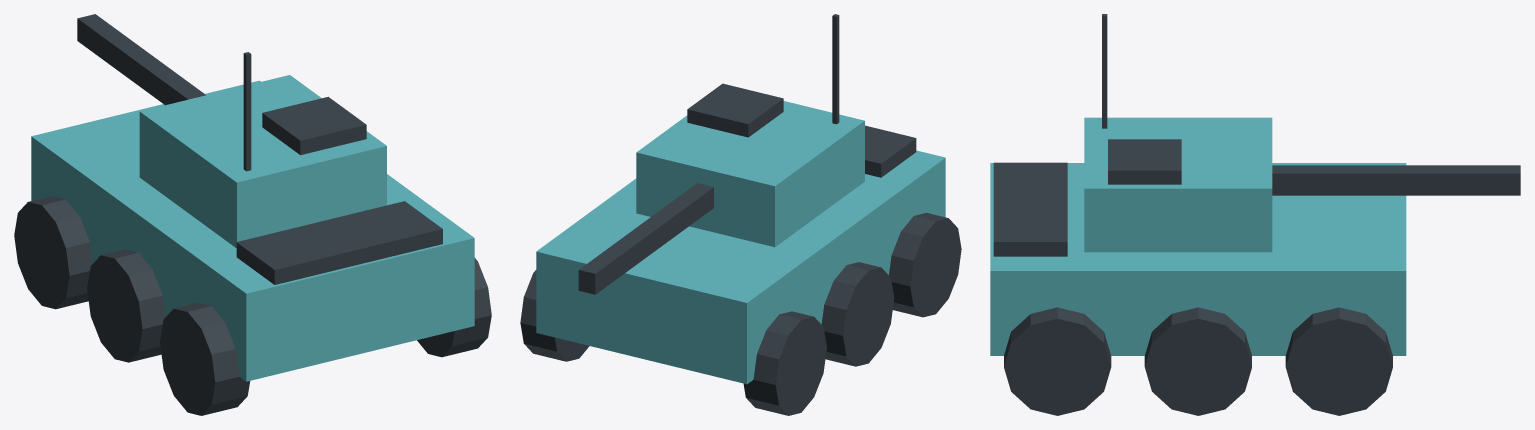
The model's file is Kestrel_LOD0.fbx.
The picture shows the model from 3 angles, left to right: view 1: azimuth 30°, elevation 25°; view 2: azimuth 150°, elevation 25°; view 3: azimuth 270°, elevation 25°; orthographic projection. The views are drawn at different scales.
Parts seen in each view (by area): view 1: Hull, Turret, EngineDeck, Wheel, Wheel.002, Wheel.001, Barrel, Hatch, Wheel.003, Antenna; view 2: Hull, Turret, Wheel.002, Wheel.001, Wheel, Barrel, Hatch, Wheel.005, EngineDeck, Antenna; view 3: Hull, Turret, Wheel.003, Wheel.005, Wheel.004, Barrel, EngineDeck, Hatch, Antenna.
Part boxes in pixels (x1,y1,x2,y2): Hull: (31,80,474,381); Turret: (139,75,386,247); EngineDeck: (236,201,442,284); Wheel: (160,302,250,415); Wheel.002: (14,196,92,309); Wheel.001: (87,249,165,362); Barrel: (77,14,205,105); Hatch: (262,96,366,155); Wheel.003: (417,258,491,357); Antenna: (243,52,251,171); Hull: (536,150,945,384); Turret: (636,101,864,247); Wheel.002: (743,311,826,415); Wheel.001: (821,262,894,366); Wheel: (889,213,961,317); Barrel: (578,183,713,294); Hatch: (687,83,783,137); Wheel.005: (520,270,589,361); EngineDeck: (865,125,916,177); Antenna: (832,14,839,124); Hull: (990,163,1406,355); Turret: (1084,117,1272,252); Wheel.003: (1004,307,1111,415); Wheel.005: (1285,307,1392,415); Wheel.004: (1144,307,1251,415); Barrel: (1272,165,1520,195); EngineDeck: (993,162,1067,256); Hatch: (1108,139,1181,184); Antenna: (1102,14,1107,128).
Size of the model in its own units: 230 by 255 by 395.
